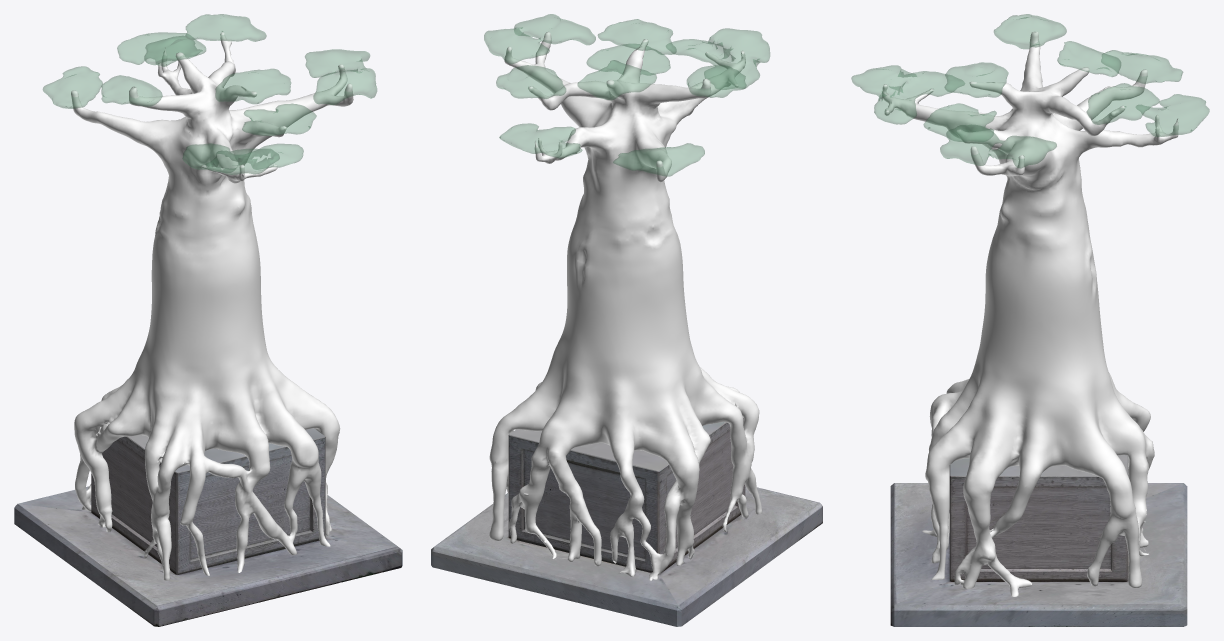
Rendered from Baobab_Website_e11.glb.
3 renders of one model, left to right at view 1: azimuth 30°, elevation 25°; view 2: azimuth 150°, elevation 25°; view 3: azimuth 270°, elevation 25°, orthographic. The views are drawn at different scales.
Parts seen in each view (by area): view 1: baum_reduziert.002; view 2: baum_reduziert.002; view 3: baum_reduziert.002.
Boxes of the visible parts, bbox=[...] form: baum_reduziert.002: bbox=[14, 14, 402, 626]; baum_reduziert.002: bbox=[431, 14, 822, 626]; baum_reduziert.002: bbox=[851, 14, 1209, 626].
Size of the model in its own units: 2.22 by 3.77 by 2.42.
3 materials, 1 textured.
